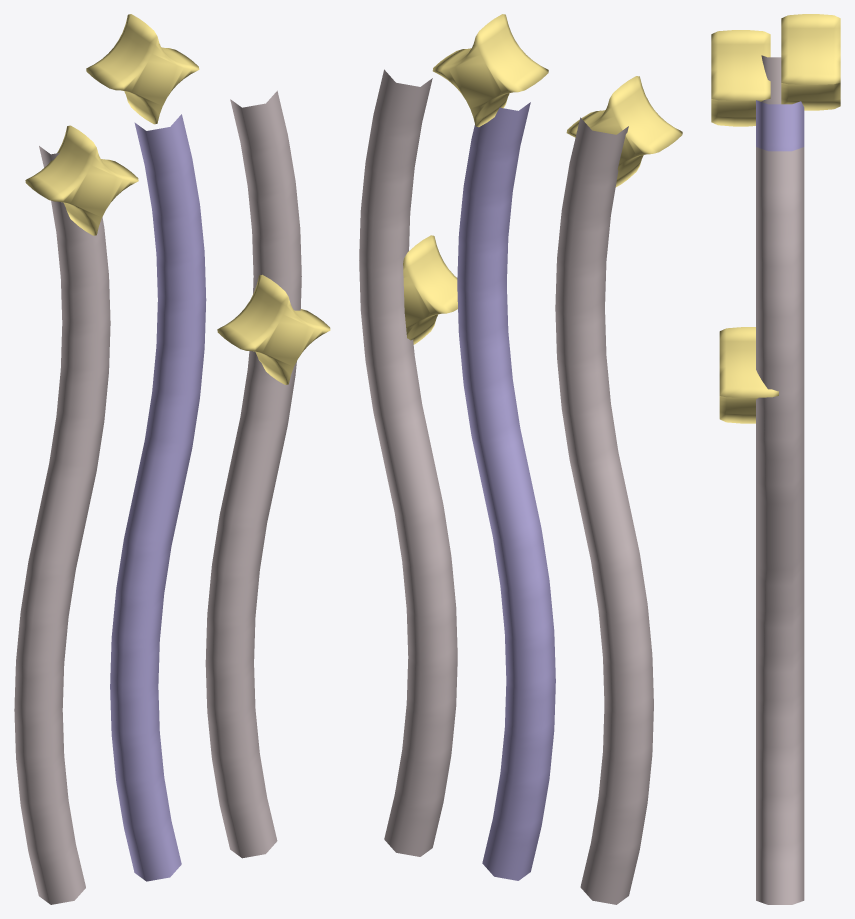
The model's file is decor_6_star.glb.
The picture shows the model from 3 angles, left to right: view 1: azimuth 30°, elevation 25°; view 2: azimuth 150°, elevation 25°; view 3: azimuth 270°, elevation 25°; orthographic projection. The views are drawn at different scales.
Visible parts, largest first — view 1: decor_6_star; view 2: decor_6_star; view 3: decor_6_star.
Boxes of the visible parts, <box> form: decor_6_star: <box>14,14,330,904</box>; decor_6_star: <box>359,14,682,904</box>; decor_6_star: <box>711,14,840,904</box>.
Size of the model in its own units: 4.82 by 13.44 by 1.87.
